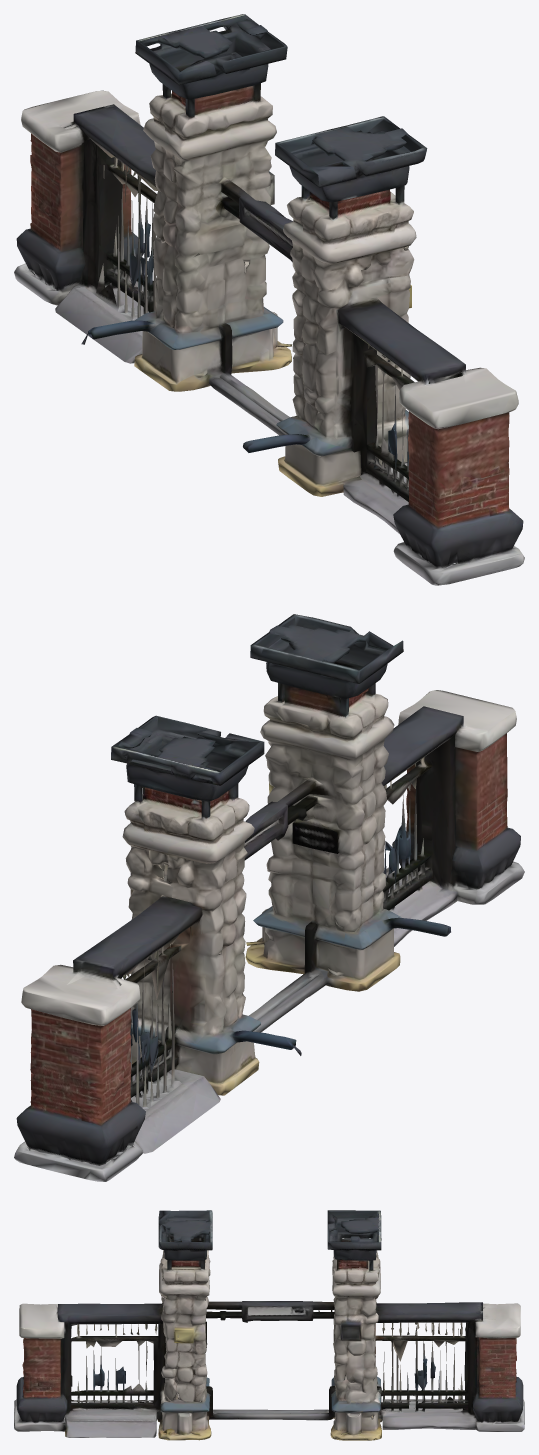
Rendered from webtoon_school_gate_module.glb.
3 views of the same model, one above another, from view 1: azimuth 30°, elevation 25°; view 2: azimuth 150°, elevation 25°; view 3: azimuth 270°, elevation 25° (orthographic). The views are drawn at different scales.
Visible parts, largest first — view 1: webtoon_school_gate_module_mesh_00; view 2: webtoon_school_gate_module_mesh_00; view 3: webtoon_school_gate_module_mesh_00.
Part boxes in pixels (x1,y1,x2,y2): webtoon_school_gate_module_mesh_00: [14, 14, 524, 585]; webtoon_school_gate_module_mesh_00: [14, 614, 524, 1181]; webtoon_school_gate_module_mesh_00: [14, 1210, 524, 1440].
Size of the model in its own units: 2.34 by 3.8 by 8.93.
1 material, 1 textured.
